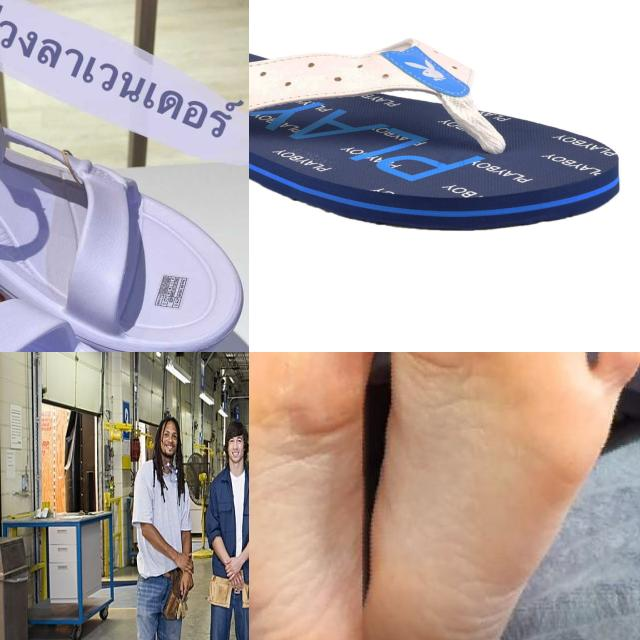Barefoots: (371, 352, 639, 640), (249, 352, 373, 640)
Sandals: (0, 26, 249, 352), (249, 36, 623, 231)
person: (119, 414, 194, 640), (205, 425, 249, 640)
